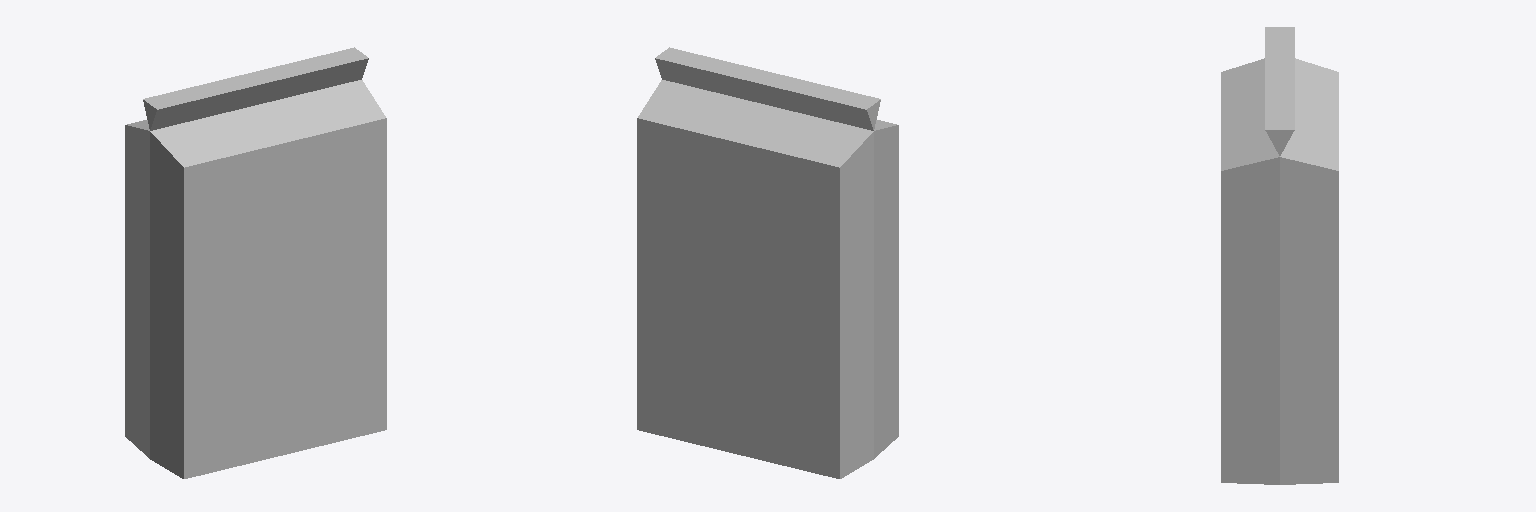
Rendered from CoffeePack01.obj.
3 views of the same model, side by side, from view 1: azimuth 30°, elevation 25°; view 2: azimuth 150°, elevation 25°; view 3: azimuth 270°, elevation 25° (orthographic).
Parts seen in each view (by area): view 1: CoffeePack01; view 2: CoffeePack01; view 3: CoffeePack01.
Boxes of the visible parts, x1=… form: CoffeePack01: x1=125, y1=47, x2=386, y2=478; CoffeePack01: x1=637, y1=47, x2=898, y2=478; CoffeePack01: x1=1221, y1=27, x2=1338, y2=484.
Bounding box in the file's own units: 0.1875 × 0.3 × 0.0898.